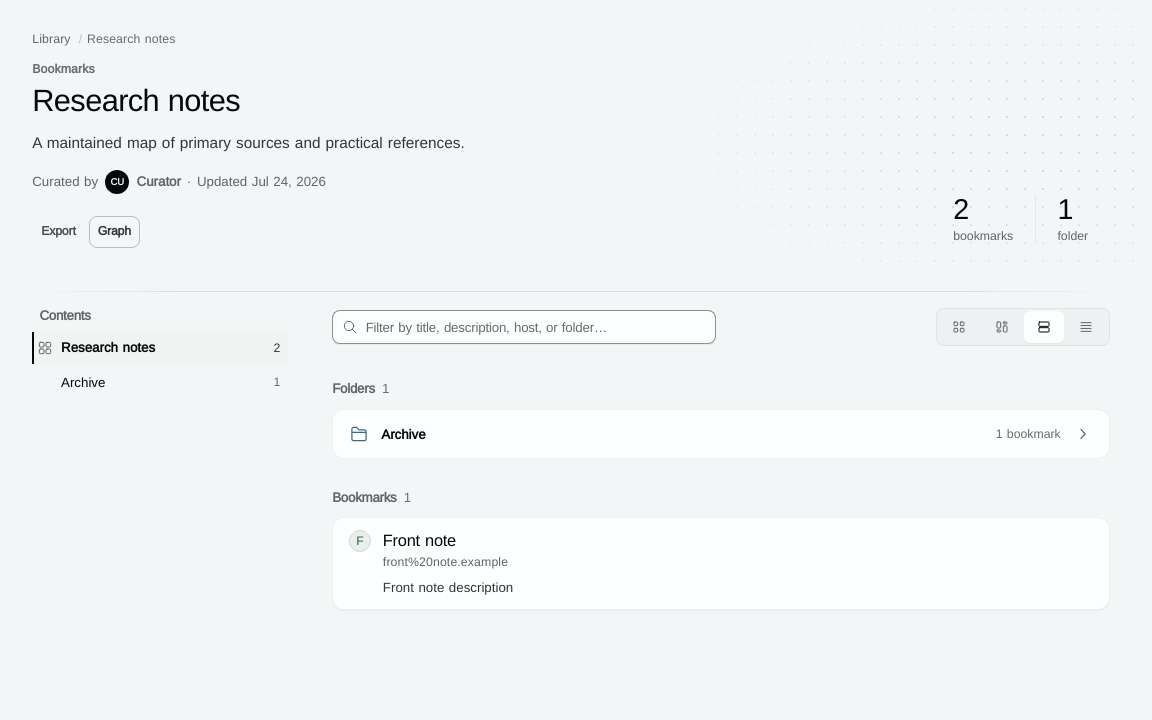
Scenario: public Collection page folder navigation › enters folders and returns in list and compact views through row links
Expected: the navigation bar named "Collection folders" is shown, [32,291,288,428]
Click the link "Archive 1 bookmark" at (403,434), box [349,424,1093,444]
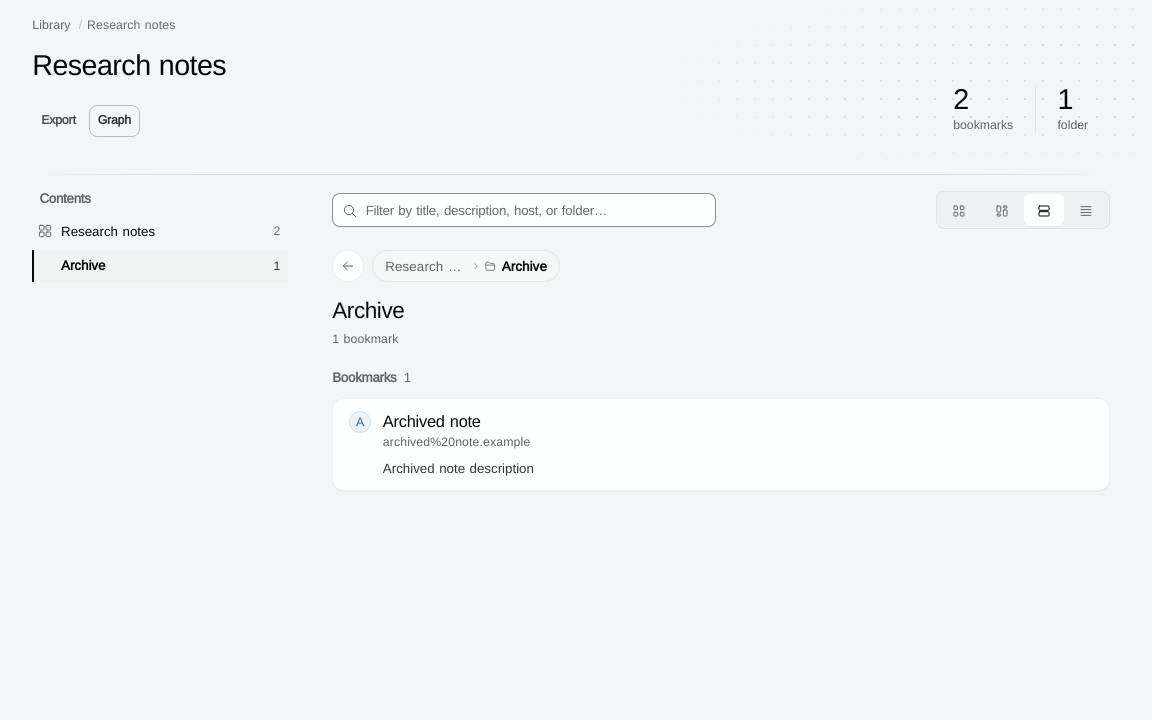
Now the text "Archived note" is shown, box [383,411,481,431]
Now the text "Front note" is gone
Click the radio button named "Compact" at (1086,211), box [1066,195,1106,227]
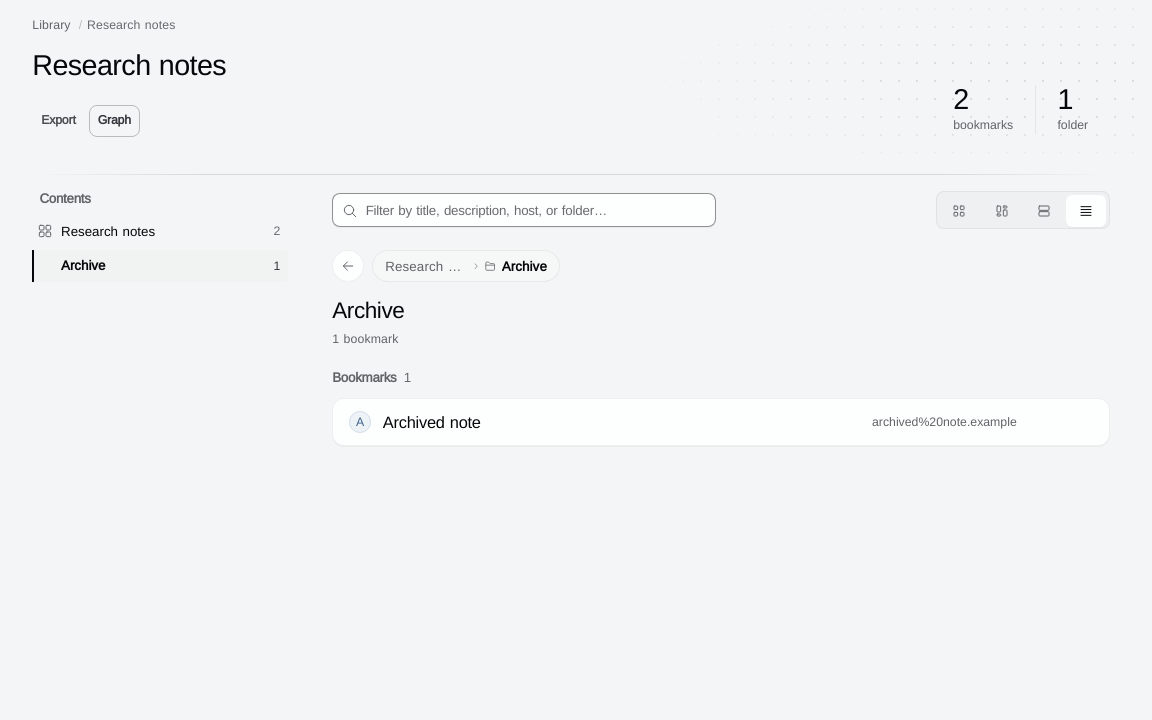
Now the element with test id "public-collection-page" has attribute data-view="compact"
Click the link "Research notes" at (426,266), box [382,254,471,279]
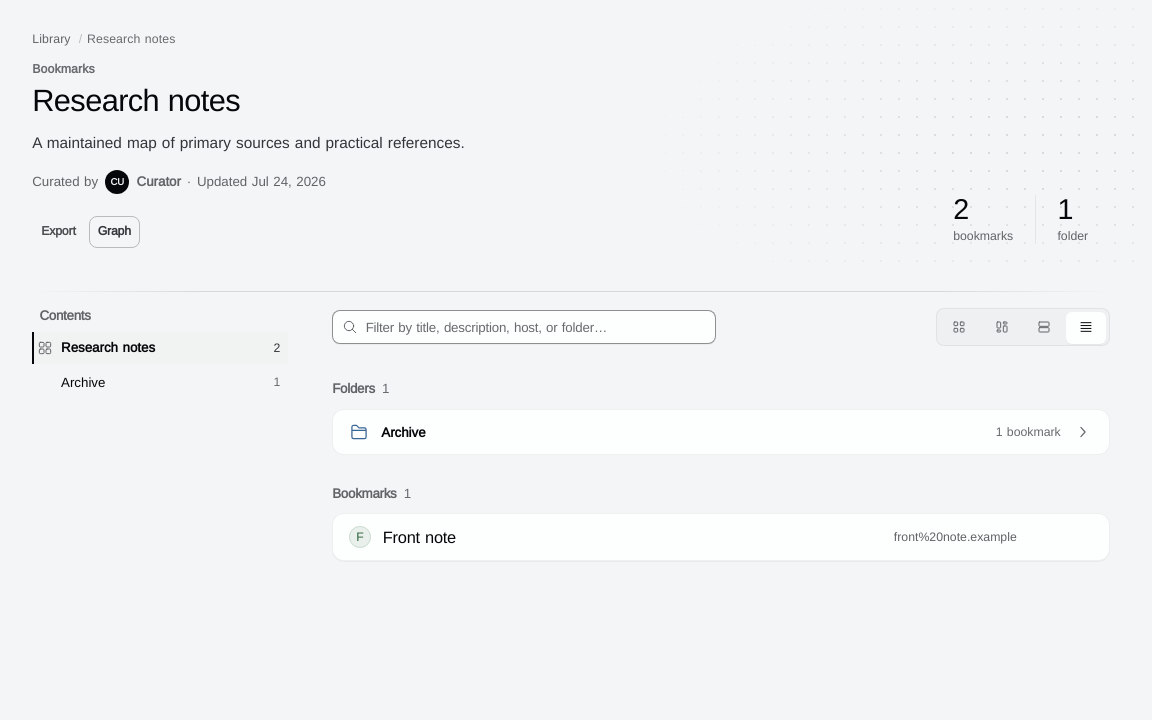
Expected: the link "Archive 1 bookmark" is shown, [349,422,1093,442]
Now the text "Front note" is shown, box [383,527,456,547]
